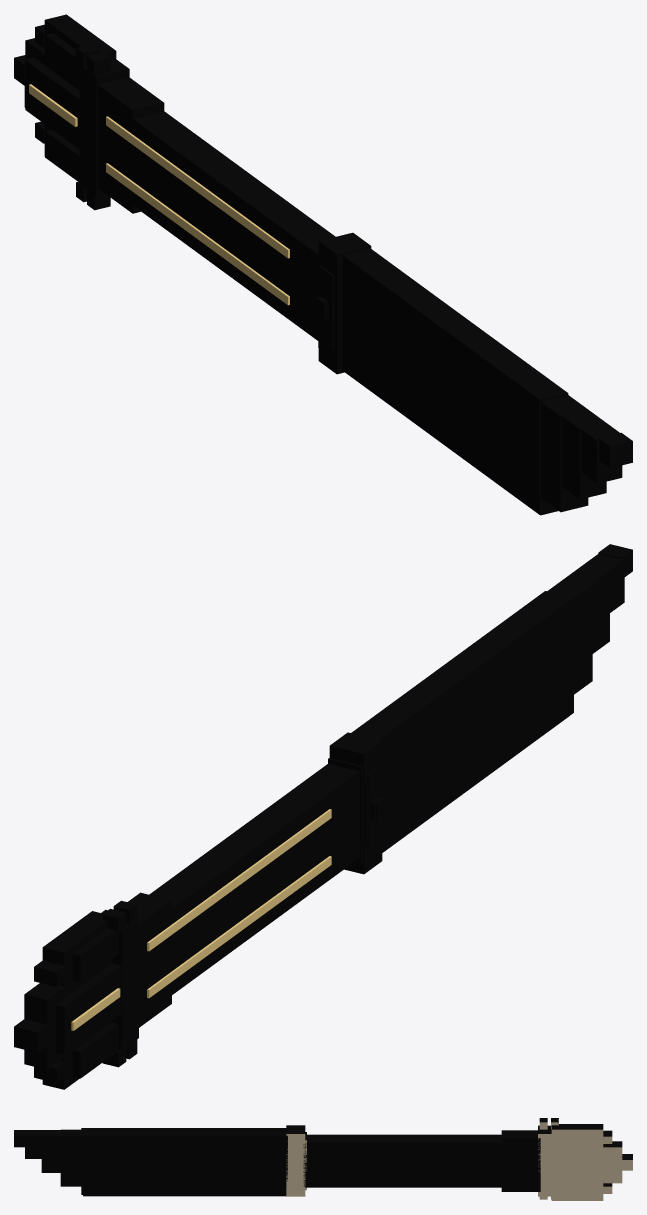
File: tea_knife.obj
The picture shows the model from 3 angles, top to bottom: view 1: azimuth 30°, elevation 25°; view 2: azimuth 150°, elevation 25°; view 3: azimuth 270°, elevation 25°; orthographic projection. The views are drawn at different scales.
Bounding box in the file's own units: 0.0661 × 0.2278 × 1.65.
